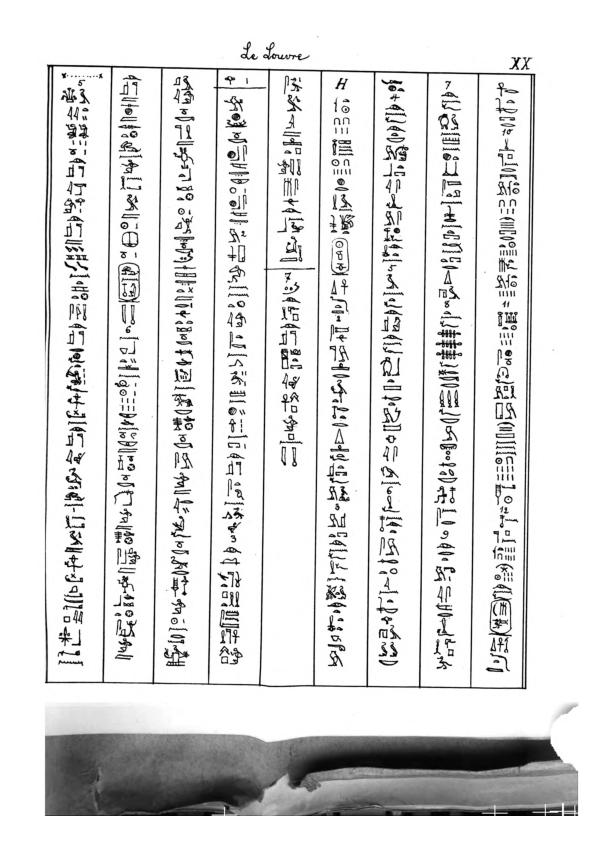circle: (115, 261, 142, 305), (487, 598, 515, 637), (328, 236, 354, 277)
